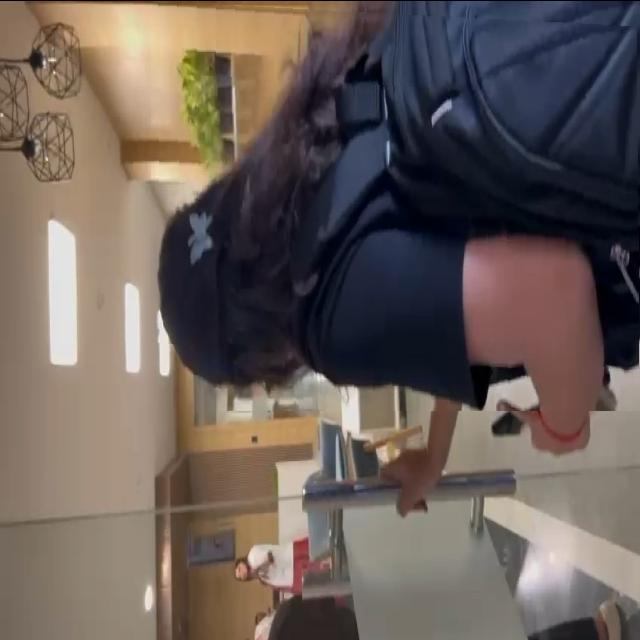moving_object: (151, 0, 640, 410)
